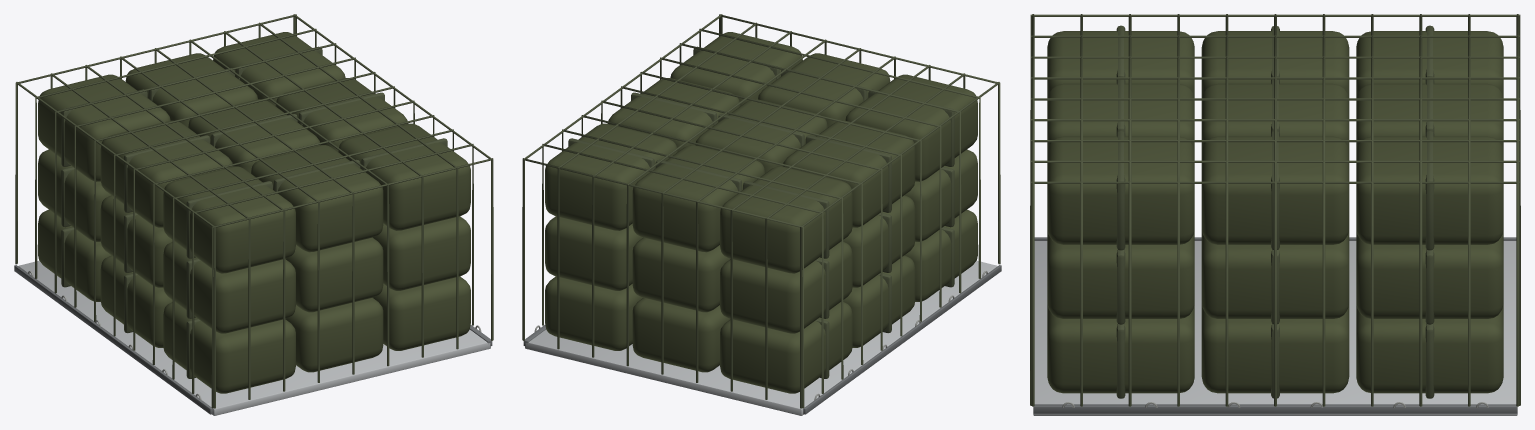
Rendered from mts-stowed.glb.
The picture shows the model from 3 angles, left to right: view 1: azimuth 30°, elevation 25°; view 2: azimuth 150°, elevation 25°; view 3: azimuth 270°, elevation 25°; orthographic projection. The views are drawn at different scales.
Visible parts, largest first — view 1: MTS_packed; view 2: MTS_packed; view 3: MTS_packed.
Part boxes in pixels (left/top/right/bottom): MTS_packed: left=14, top=14, right=493, bottom=415; MTS_packed: left=522, top=14, right=1001, bottom=415; MTS_packed: left=1030, top=14, right=1520, bottom=415.
Bounding box in the file's own units: 2.28 × 1.47 × 2.78.
